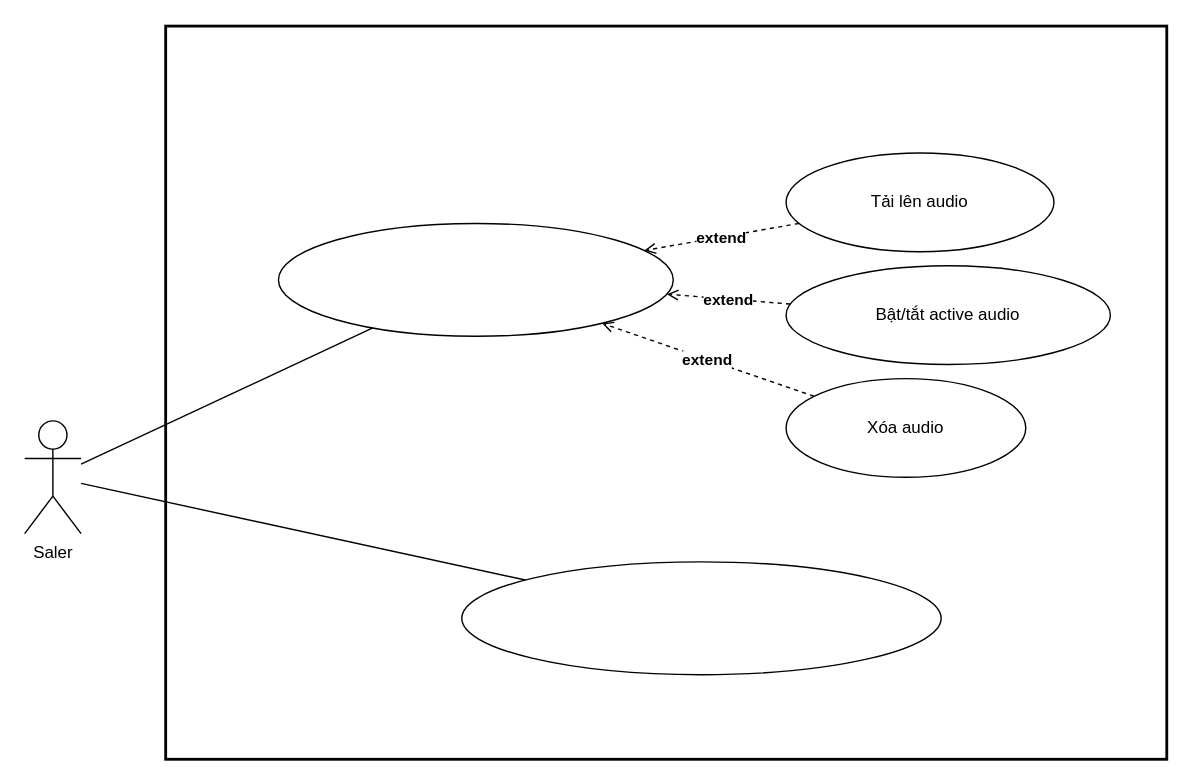
This 1193x784 diagram has some shape labels left out. Each missing label, with the centre of its shape:
"Dịch văn bản và tạo audio từ text" belongs at point (700, 617).
"Quản lý âm thanh mô tả" belongs at point (475, 279).
